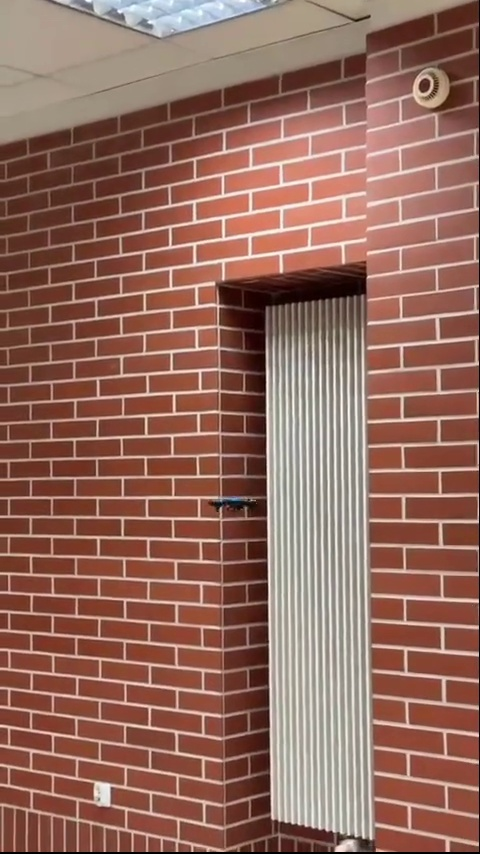drone: (207, 492, 257, 514)
